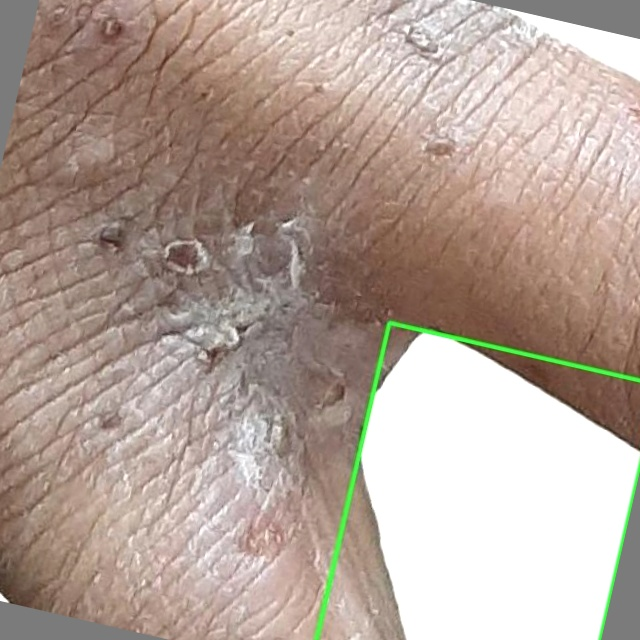Scabies: (316, 322, 639, 639)
